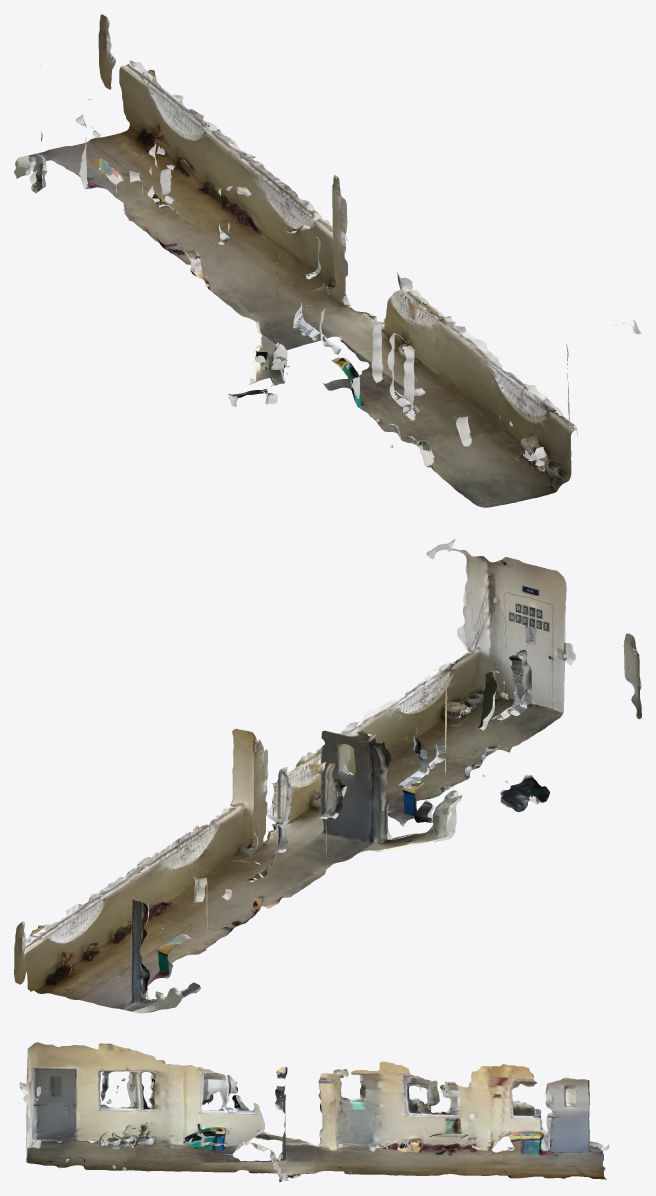
The model's file is MAP_WBK5L0VOVF1B.glb.
3 views of the same model, one above another, from view 1: azimuth 30°, elevation 25°; view 2: azimuth 150°, elevation 25°; view 3: azimuth 270°, elevation 25° (orthographic). The views are drawn at different scales.
Visible parts, largest first — view 1: TexturedMesh.obj; view 2: TexturedMesh.obj; view 3: TexturedMesh.obj.
Part boxes in pixels (box(x1,y1,x2,y2)): TexturedMesh.obj: box(14, 14, 641, 507); TexturedMesh.obj: box(14, 539, 641, 1013); TexturedMesh.obj: box(19, 1042, 609, 1181).
Size of the model in its own units: 5.01 by 3.03 by 16.44.
Materials: 1 (1 with a texture image).
